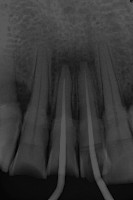Furcation Involvement: (51, 47, 97, 82)
